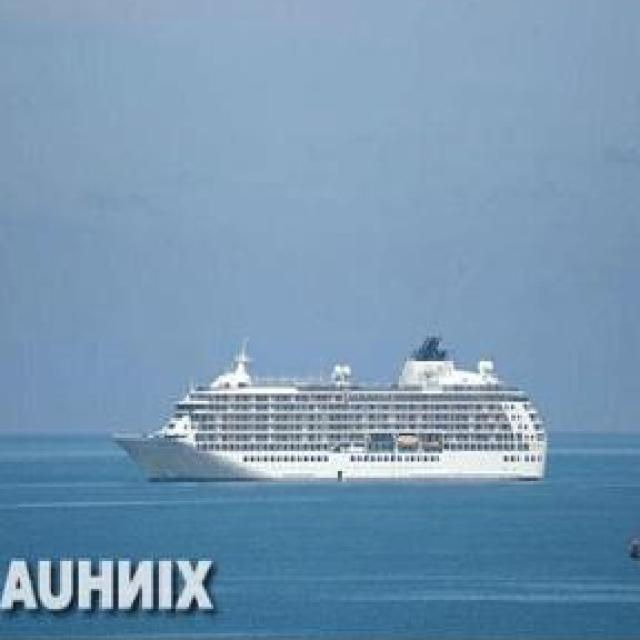passenger ship: (131, 329, 555, 485)
